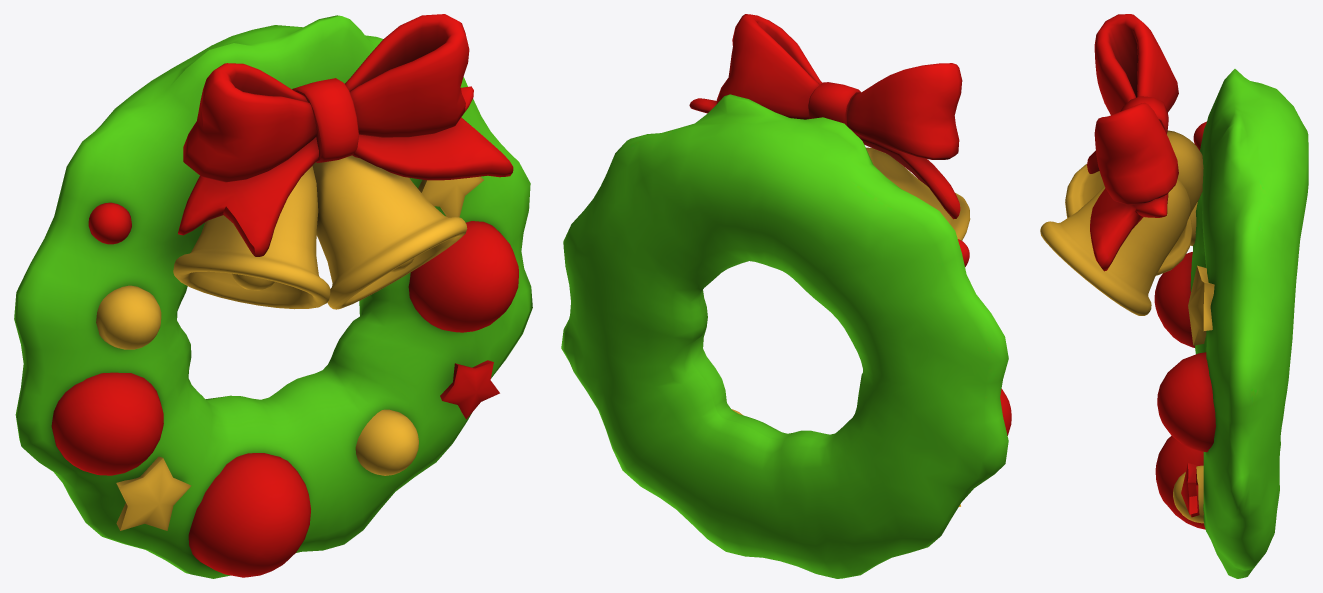
The model's file is qizi_10.FBX.
The picture shows the model from 3 angles, left to right: view 1: azimuth 30°, elevation 25°; view 2: azimuth 150°, elevation 25°; view 3: azimuth 270°, elevation 25°; orthographic projection. The views are drawn at different scales.
Parts seen in each view (by area): view 1: qizi_10; view 2: qizi_10; view 3: qizi_10.
Boxes of the visible parts, x1,y1,x2,y2 form: qizi_10: [14, 14, 532, 578]; qizi_10: [561, 14, 1011, 578]; qizi_10: [1040, 14, 1308, 578].
Size of the model in its own units: 95.92 by 100 by 49.89.
Materials: 1 (1 with a texture image).
